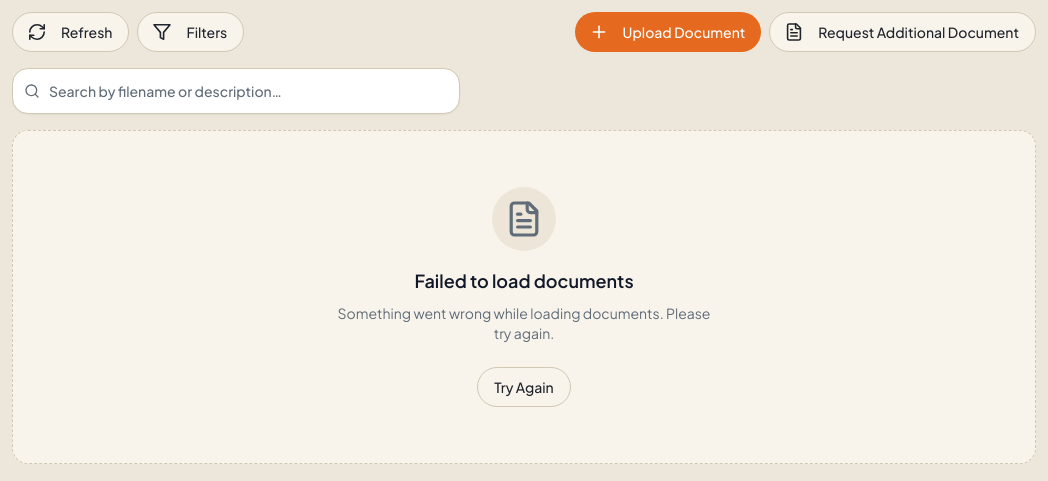
DocumentsTab › shows an error state with retry
This screenshot has width=1048, height=481.
Expected: the heading "Failed to load documents" is shown, [414,267,634,295]
Click the button "Try Again".
click(524, 387)  # box [477,367,571,407]
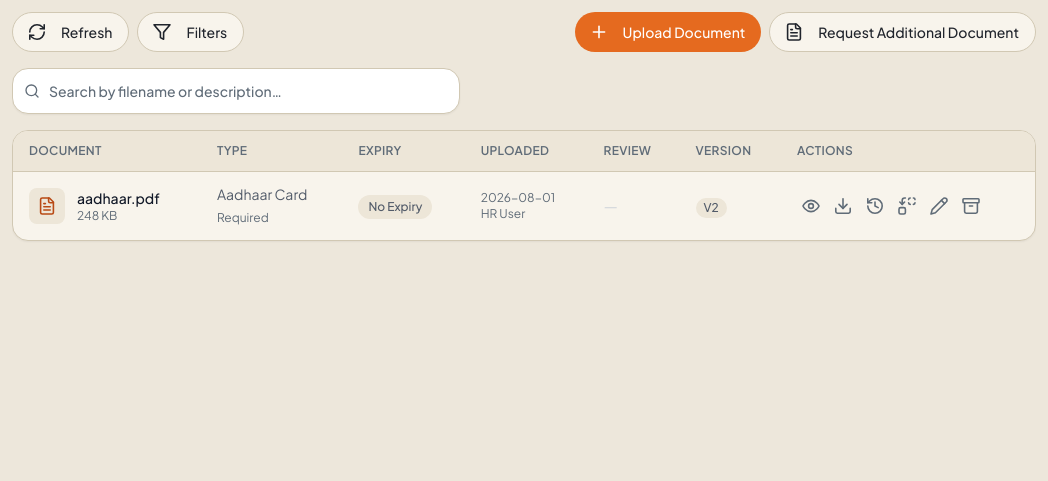
Expected: the text "aadhaar.pdf" is shown, [77,188,160,208]
